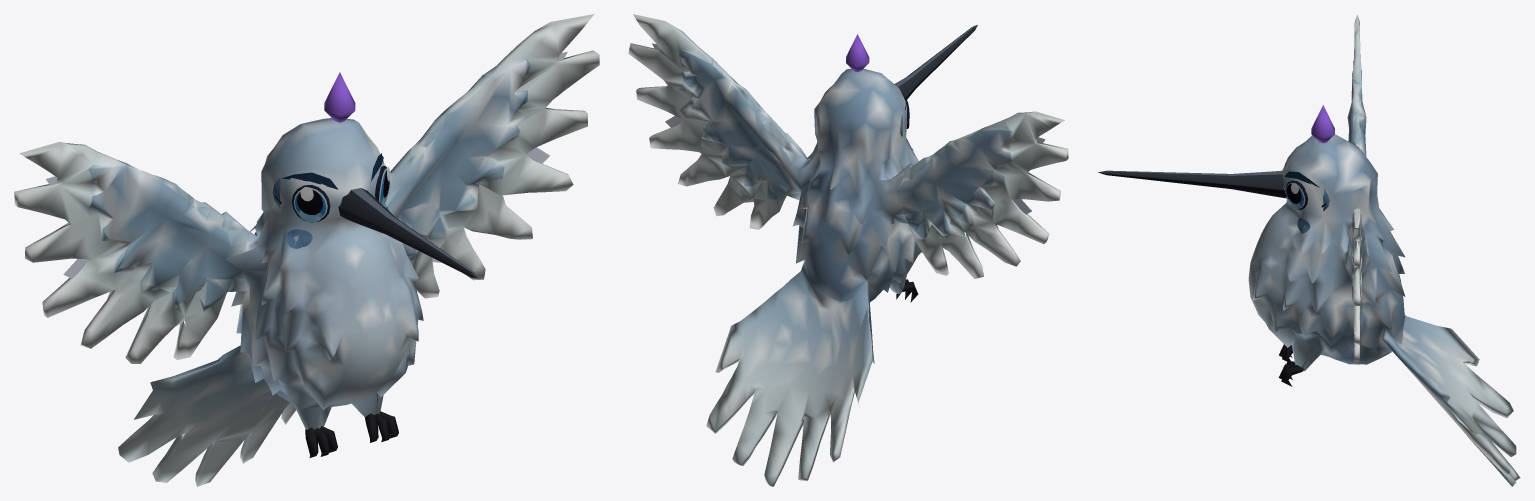
The model's file is voltari.glb.
The picture shows the model from 3 angles, left to right: view 1: azimuth 30°, elevation 25°; view 2: azimuth 150°, elevation 25°; view 3: azimuth 270°, elevation 25°; orthographic projection. The views are drawn at different scales.
Parts seen in each view (by area): view 1: body, eyes, shimmer; view 2: body, eyes; view 3: body, eyes.
Boxes of the visible parts, <box> form: body: <box>14,14,599,486</box>; eyes: <box>272,72,477,457</box>; shimmer: <box>46,51,567,326</box>; body: <box>628,14,1068,486</box>; eyes: <box>846,25,977,302</box>; body: <box>1248,14,1520,486</box>; eyes: <box>1098,105,1334,386</box>.
Size of the model in its own units: 1.65 by 1.37 by 1.38.
